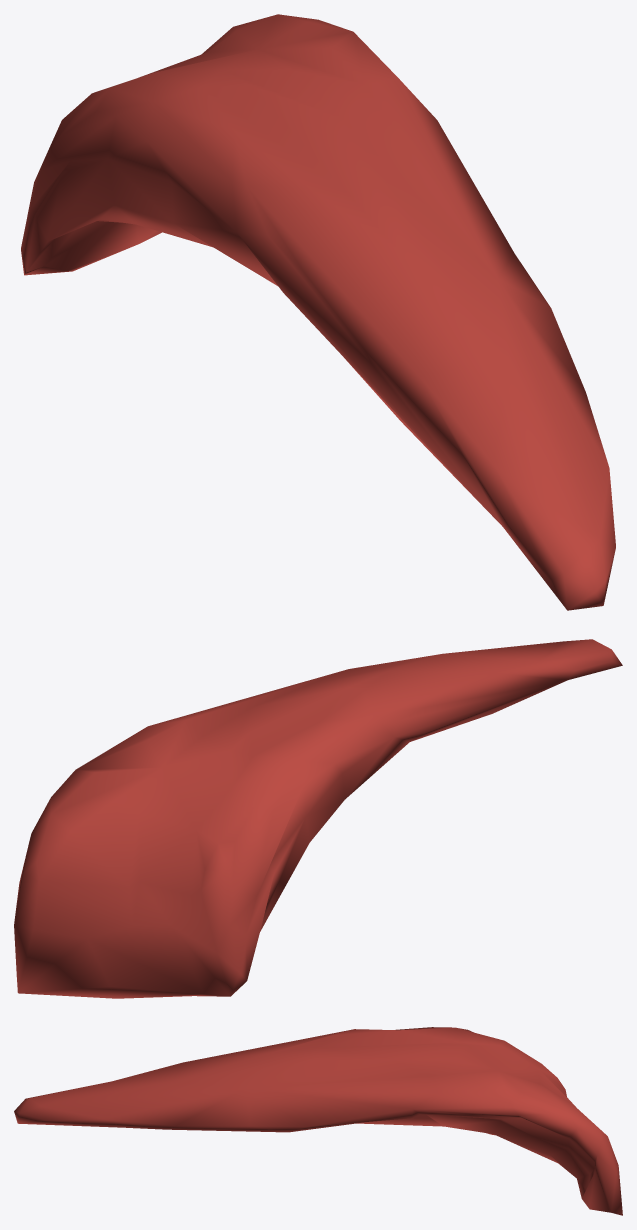
Rendered from musculos-geniohyoid-muscle-l.glb.
The picture shows the model from 3 angles, top to bottom: view 1: azimuth 30°, elevation 25°; view 2: azimuth 150°, elevation 25°; view 3: azimuth 270°, elevation 25°; orthographic projection. The views are drawn at different scales.
Parts seen in each view (by area): view 1: Geniohyoid muscle.l; view 2: Geniohyoid muscle.l; view 3: Geniohyoid muscle.l.
Part boxes in pixels (x1,y1,x2,y2): Geniohyoid muscle.l: (21, 14, 615, 610); Geniohyoid muscle.l: (14, 639, 622, 998); Geniohyoid muscle.l: (14, 1027, 622, 1215).
Size of the model in its own units: 0.0112 by 0.0101 by 0.0401.
